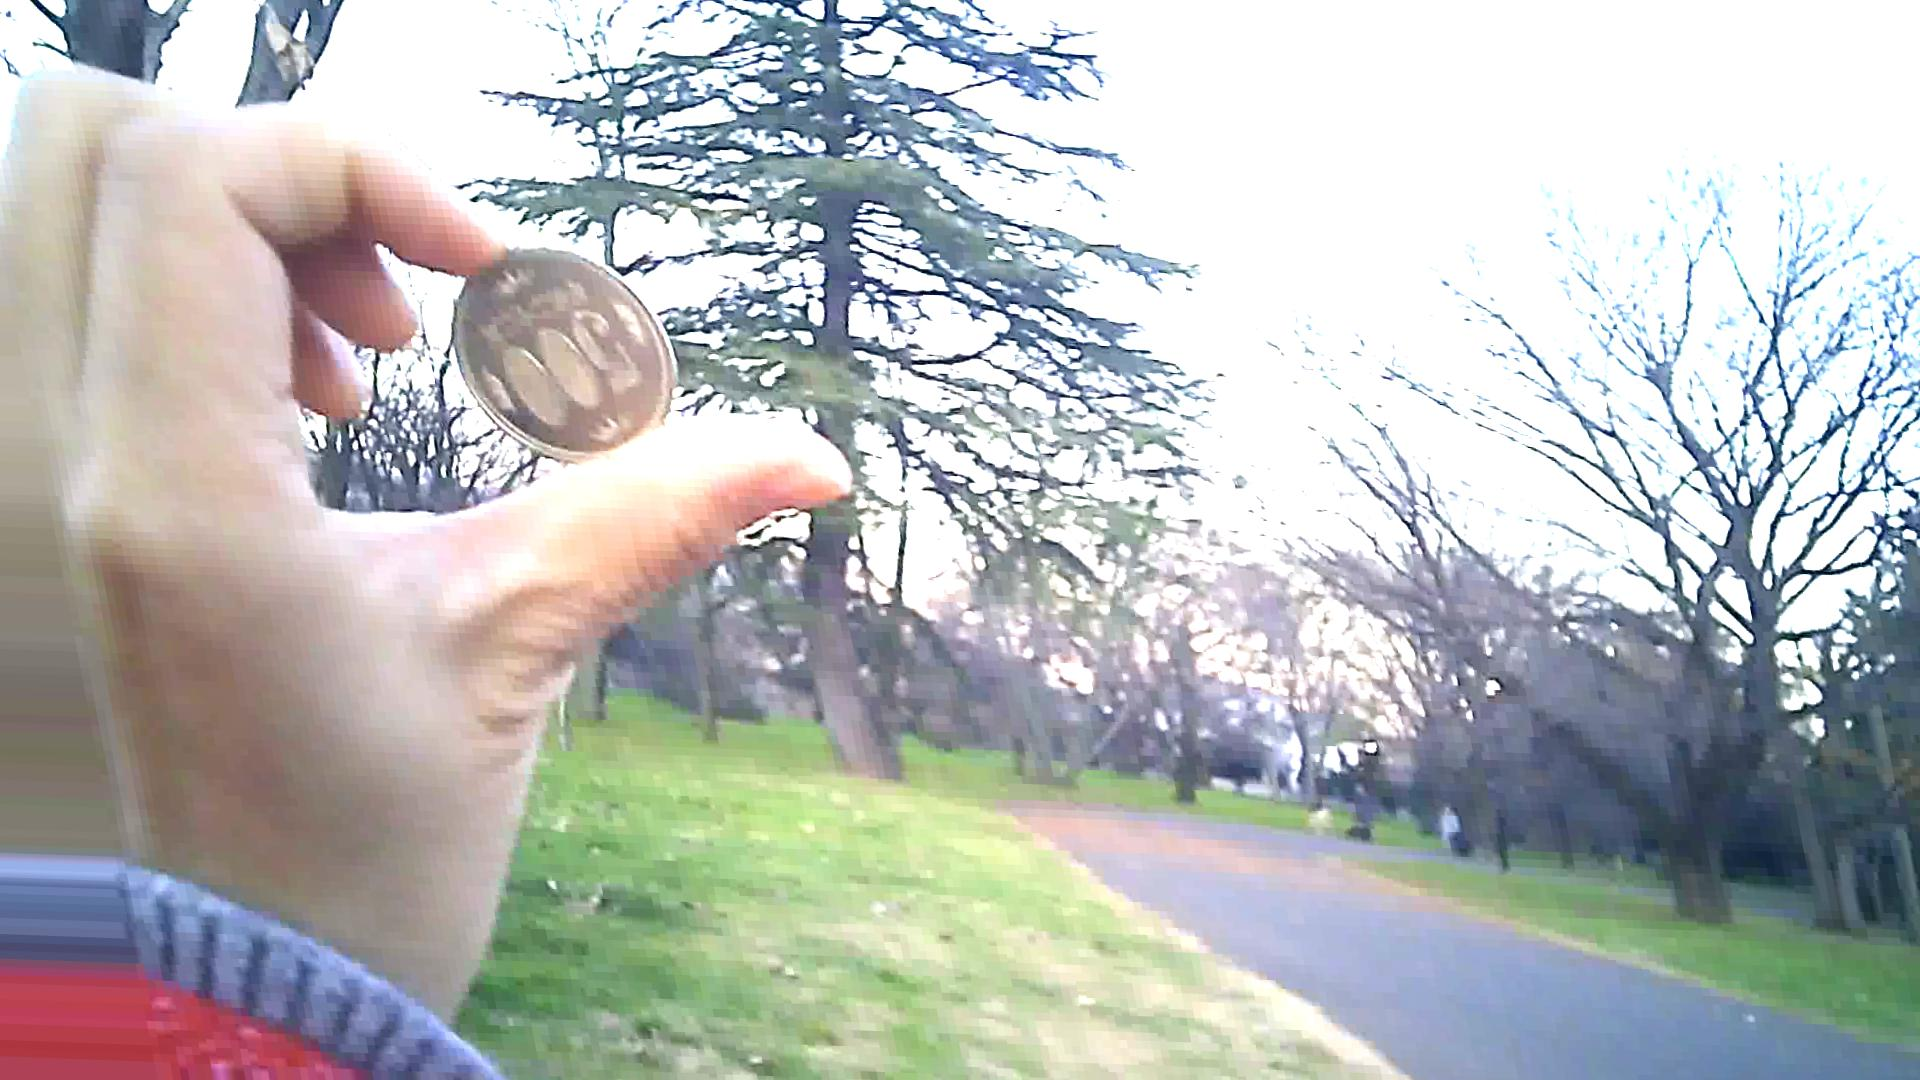500 Yen: (433, 252, 679, 477)
